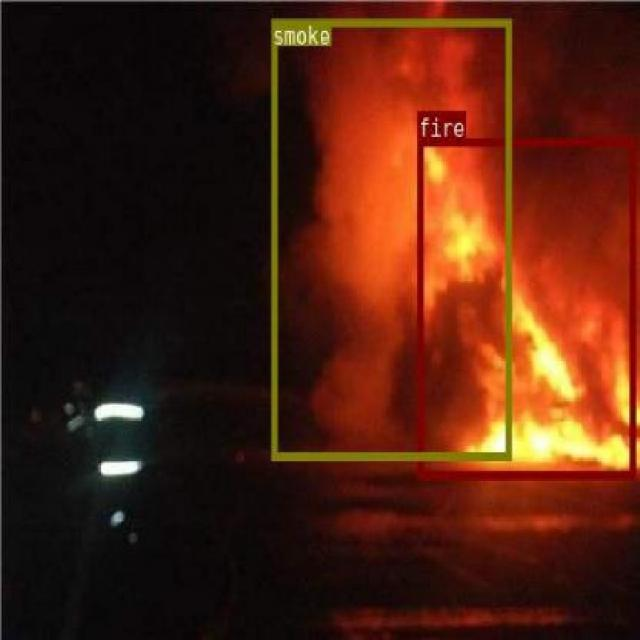Fire: (417, 138, 634, 478)
Smoke: (270, 19, 510, 458)
